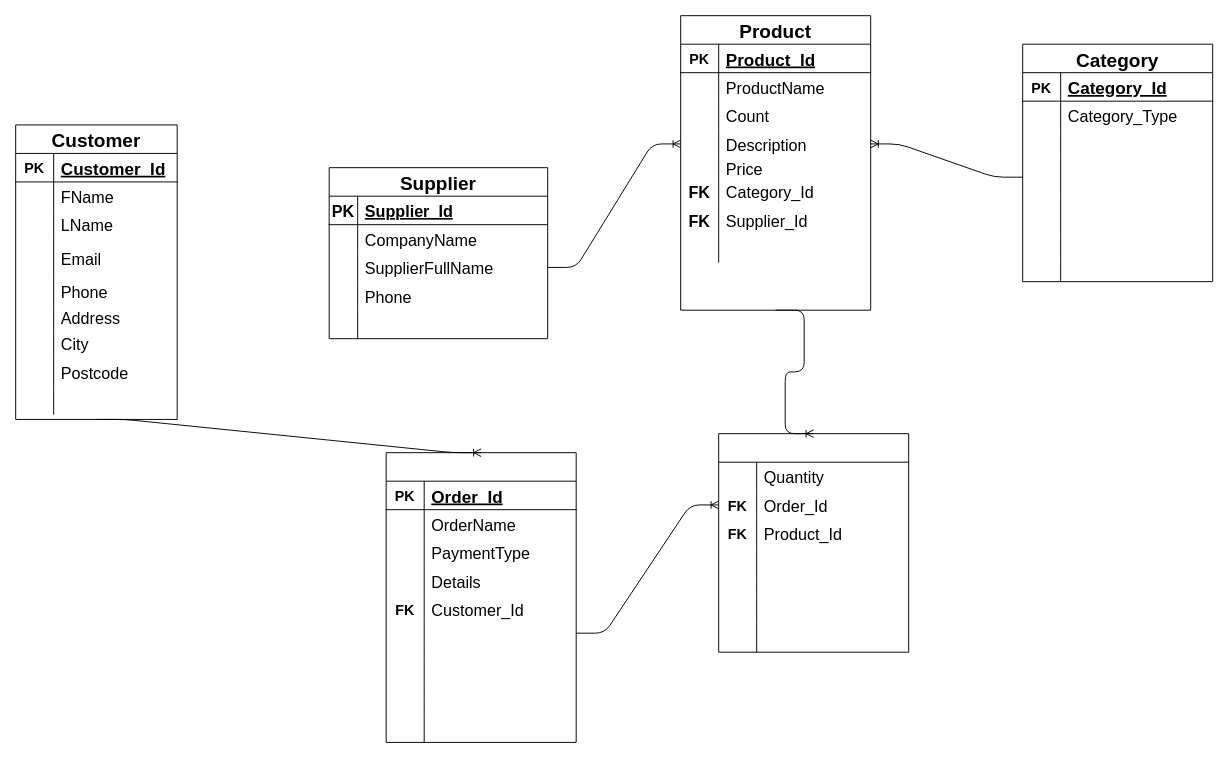
Image size: 1228x758. Some labels were removed from this diagram. Each missing label, with the box of its shape:
Order_Product: (718, 433, 909, 652)
Orders: (385, 452, 576, 742)
